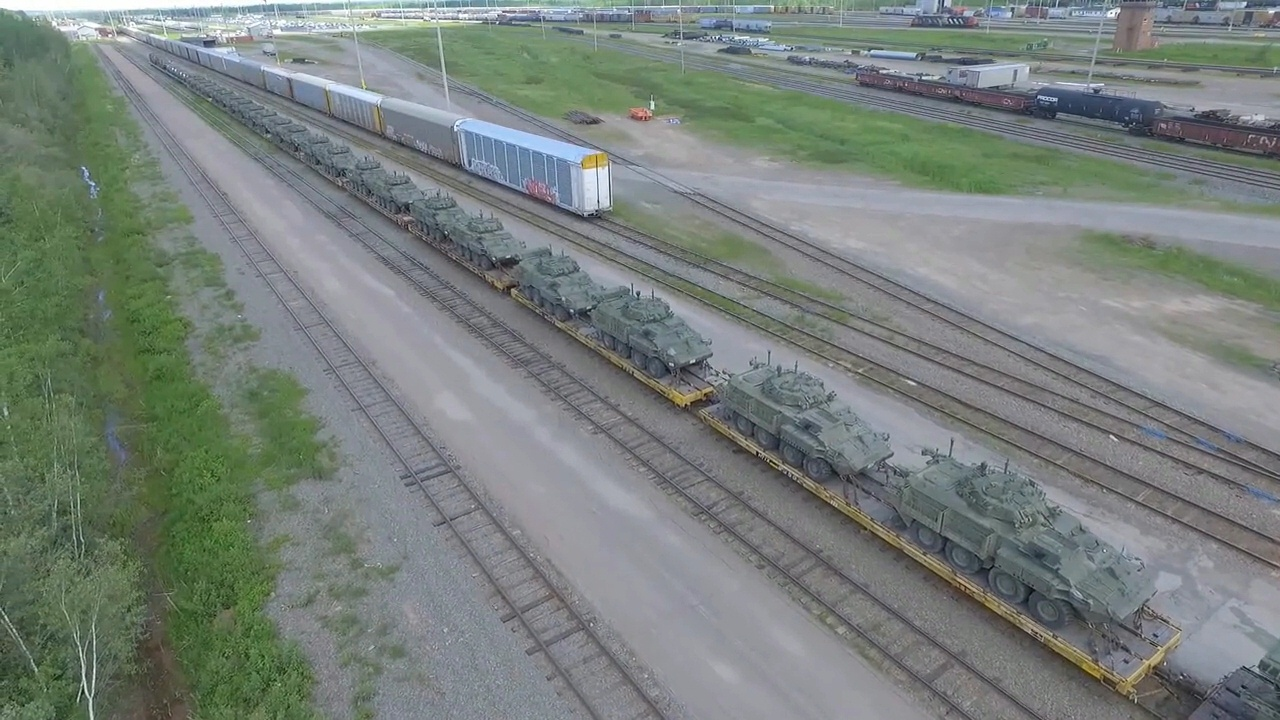tank: (895, 438, 1164, 627), (721, 359, 896, 479), (592, 290, 715, 377), (515, 247, 598, 323), (447, 209, 530, 274), (411, 184, 472, 248), (374, 170, 420, 217), (344, 156, 389, 204)
